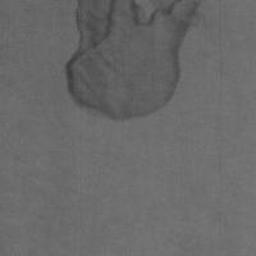Water spot: (64, 0, 202, 122)
